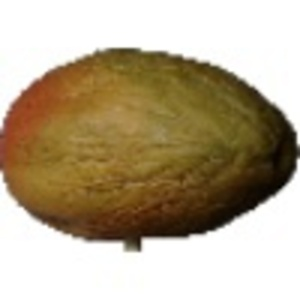mamão: (1, 42, 298, 240)
